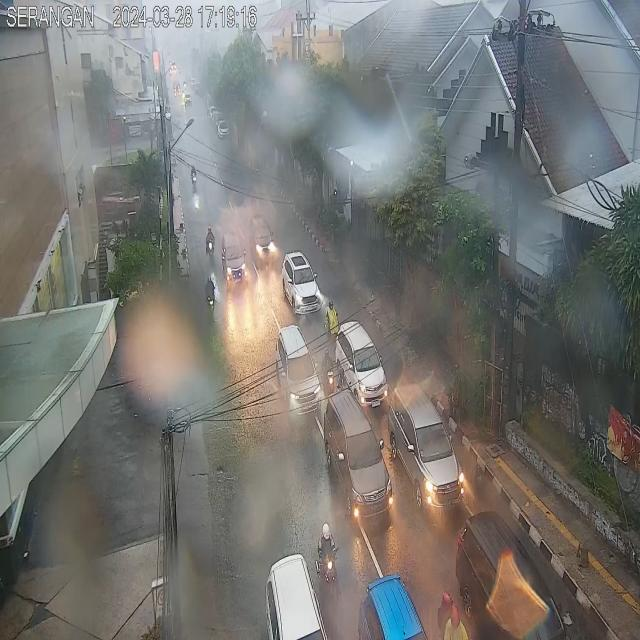car: (456, 508, 566, 640), (390, 389, 463, 507), (266, 553, 325, 640), (358, 574, 427, 640), (340, 322, 390, 409), (276, 325, 321, 414), (280, 252, 323, 314), (249, 216, 276, 270), (222, 233, 247, 291)
motorcycle: (316, 521, 342, 599), (320, 348, 335, 394), (325, 300, 340, 339), (205, 274, 216, 318), (205, 223, 216, 262)
